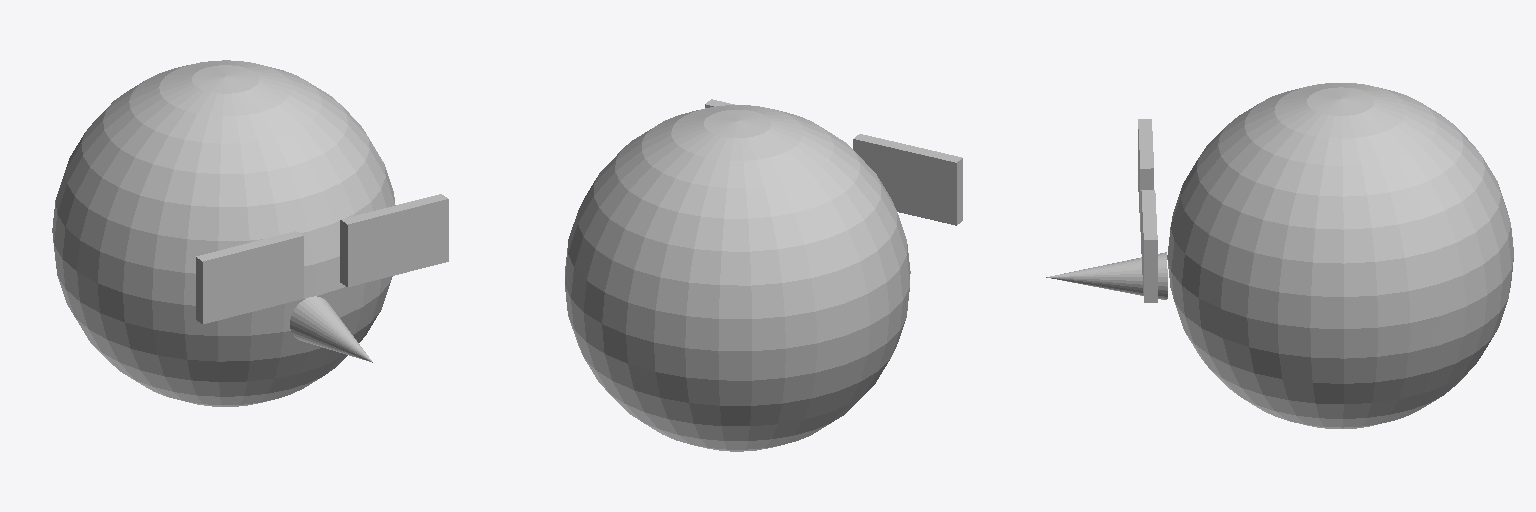
The model's file is head002.obj.
3 renders of one model, left to right at view 1: azimuth 30°, elevation 25°; view 2: azimuth 150°, elevation 25°; view 3: azimuth 270°, elevation 25°, orthographic.
Visible parts, largest first — view 1: Sphere, Cube.001_Cube.002, Cube_Cube.001, Cone; view 2: Sphere, Cube_Cube.001; view 3: Sphere, Cone, Cube.001_Cube.002, Cube_Cube.001.
Part boxes in pixels (bbox=[...]): Sphere: bbox=[52, 60, 395, 406]; Cube.001_Cube.002: bbox=[340, 194, 448, 286]; Cube_Cube.001: bbox=[196, 231, 303, 323]; Cone: bbox=[290, 296, 372, 362]; Sphere: bbox=[565, 105, 910, 451]; Cube_Cube.001: bbox=[853, 134, 962, 225]; Sphere: bbox=[1167, 83, 1513, 428]; Cone: bbox=[1046, 252, 1167, 299]; Cube.001_Cube.002: bbox=[1141, 190, 1157, 302]; Cube_Cube.001: bbox=[1138, 119, 1153, 231].
Size of the model in its own units: 2 by 2 by 2.7.